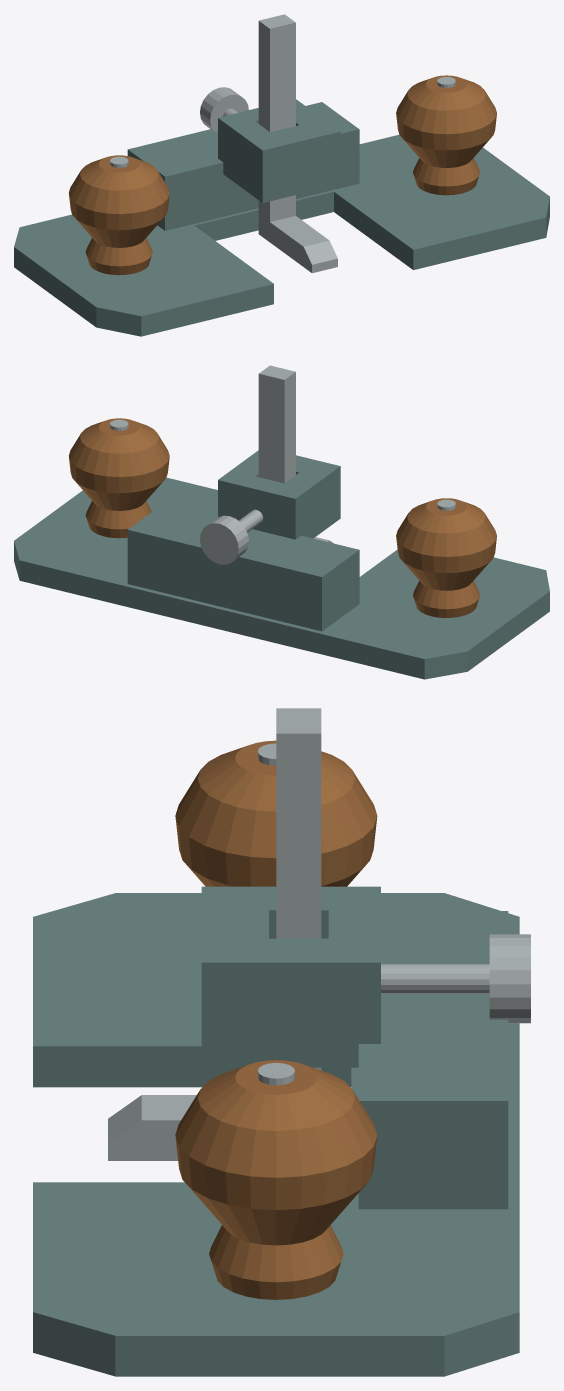
3 renders of one model, top to bottom at view 1: azimuth 30°, elevation 25°; view 2: azimuth 150°, elevation 25°; view 3: azimuth 270°, elevation 25°, orthographic. The views are drawn at different scales.
Parts seen in each view (by area): view 1: WholeWideOpenFrontGroundSole, WholeRectangularBoredBladeCollar, RightWholeShapedWoodKnob, LeftWholeShapedWoodKnob, WholeRearRaisedBridge, WholeUprightLFootBluntIron, WholeRearClampThumbHead; view 2: WholeWideOpenFrontGroundSole, WholeRearRaisedBridge, LeftWholeShapedWoodKnob, RightWholeShapedWoodKnob, WholeRectangularBoredBladeCollar, WholeUprightLFootBluntIron, WholeRearClampThumbHead; view 3: WholeWideOpenFrontGroundSole, WholeRearRaisedBridge, RightWholeShapedWoodKnob, WholeRectangularBoredBladeCollar, LeftWholeShapedWoodKnob, WholeUprightLFootBluntIron, WholeRearClampThumbHead, WholeFixedRearBladeClampScrew.
Boxes of the visible parts, box(x1,y1,x2,y2) form: WholeWideOpenFrontGroundSole: box(14, 135, 549, 336); WholeRectangularBoredBladeCollar: box(218, 99, 340, 202); RightWholeShapedWoodKnob: box(396, 75, 496, 195); LeftWholeShapedWoodKnob: box(69, 155, 169, 275); WholeRearRaisedBridge: box(127, 102, 359, 230); WholeUprightLFootBluntIron: box(258, 14, 337, 273); WholeRearClampThumbHead: box(200, 87, 248, 132); WholeWideOpenFrontGroundSole: box(14, 477, 549, 679); WholeRearRaisedBridge: box(127, 502, 359, 631); LeftWholeShapedWoodKnob: box(396, 498, 496, 617); RightWholeShapedWoodKnob: box(69, 418, 169, 538); WholeRectangularBoredBladeCollar: box(218, 450, 340, 539); WholeUprightLFootBluntIron: box(258, 365, 333, 543); WholeRearClampThumbHead: box(200, 515, 248, 564); WholeWideOpenFrontGroundSole: box(33, 893, 519, 1376); WholeRearRaisedBridge: box(358, 911, 508, 1209); RightWholeShapedWoodKnob: box(175, 1060, 377, 1299); WholeRectangularBoredBladeCollar: box(201, 886, 380, 1067); LeftWholeShapedWoodKnob: box(175, 740, 377, 886); WholeUprightLFootBluntIron: box(108, 708, 321, 1160); WholeRearClampThumbHead: box(489, 934, 530, 1023); WholeFixedRearBladeClampScrew: box(381, 964, 489, 993).
Size of the model in its own units: 0.28 by 0.128 by 0.133.
